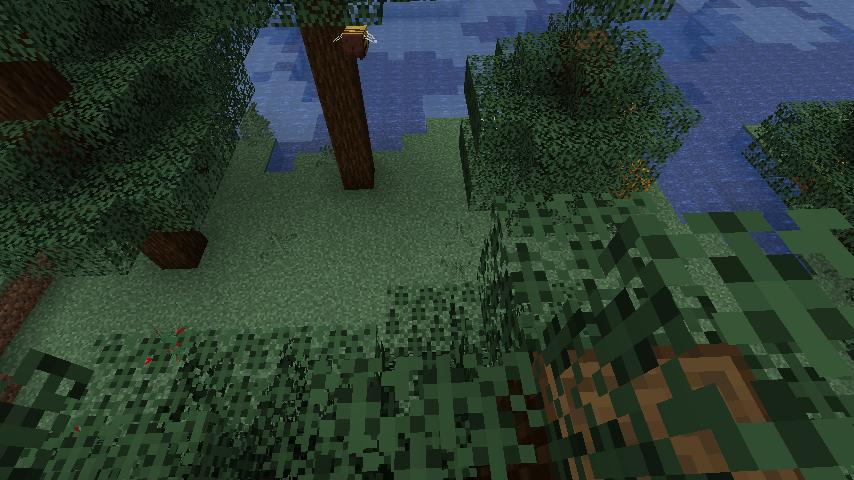bee: (332, 22, 379, 62)
